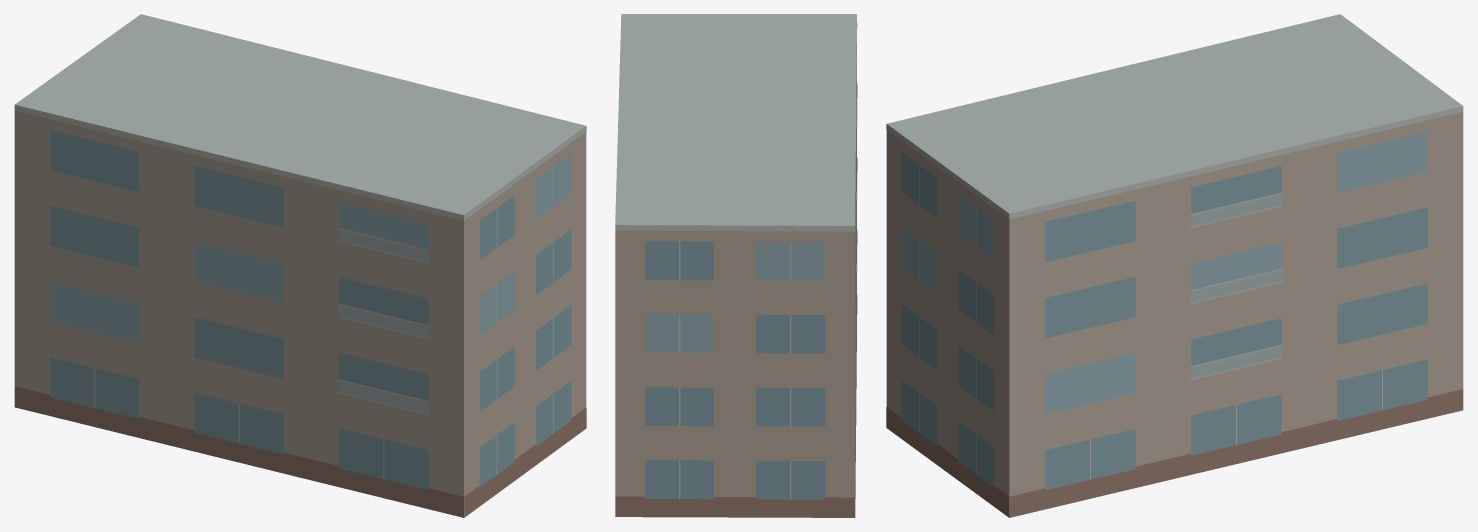
The model's file is survey-upis-32949821.glb.
The picture shows the model from 3 angles, left to right: view 1: azimuth 30°, elevation 25°; view 2: azimuth 150°, elevation 25°; view 3: azimuth 270°, elevation 25°; orthographic projection. The views are drawn at different scales.
Visible parts, largest first — view 1: survey-upis-32949821.tmp; view 2: survey-upis-32949821.tmp; view 3: survey-upis-32949821.tmp.
Boxes of the visible parts, x1=… form: survey-upis-32949821.tmp: x1=14, y1=14, x2=586, y2=517; survey-upis-32949821.tmp: x1=615, y1=14, x2=857, y2=517; survey-upis-32949821.tmp: x1=886, y1=14, x2=1463, y2=517.
Size of the model in its own units: 18.03 by 12.8 by 22.01.
